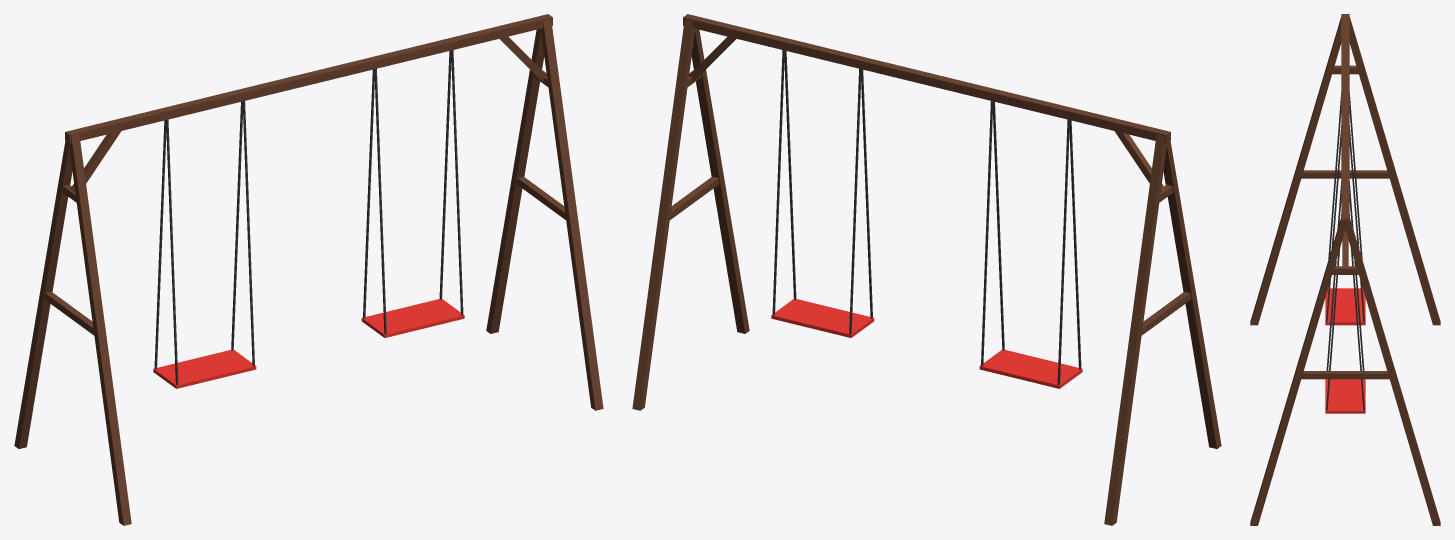
The model's file is SM_Props_Playground_01.fbx.
The picture shows the model from 3 angles, left to right: view 1: azimuth 30°, elevation 25°; view 2: azimuth 150°, elevation 25°; view 3: azimuth 270°, elevation 25°; orthographic projection. The views are drawn at different scales.
Parts seen in each view (by area): view 1: SM_Props_Playground_01; view 2: SM_Props_Playground_01; view 3: SM_Props_Playground_01.
Boxes of the visible parts, x1,y1,x2,y2 form: SM_Props_Playground_01: [14, 14, 603, 525]; SM_Props_Playground_01: [632, 14, 1221, 525]; SM_Props_Playground_01: [1250, 14, 1440, 525].
Bounding box in the file's own units: 3.02 × 2.11 × 1.18.
